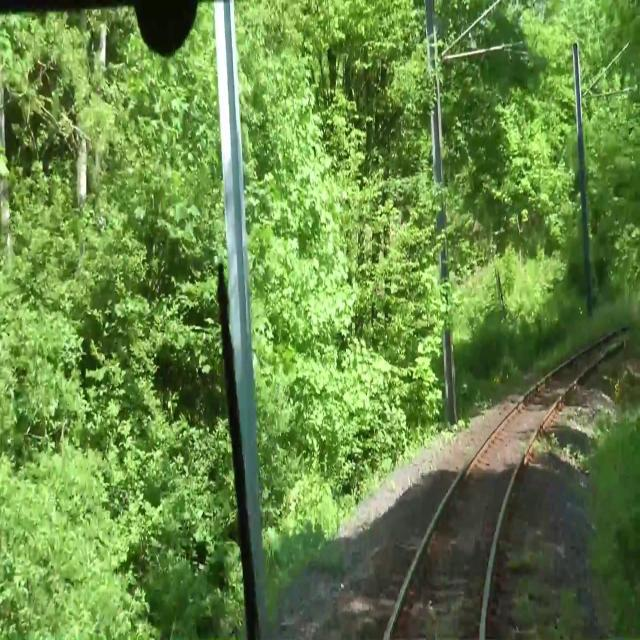rail-track: (387, 329, 627, 639)
